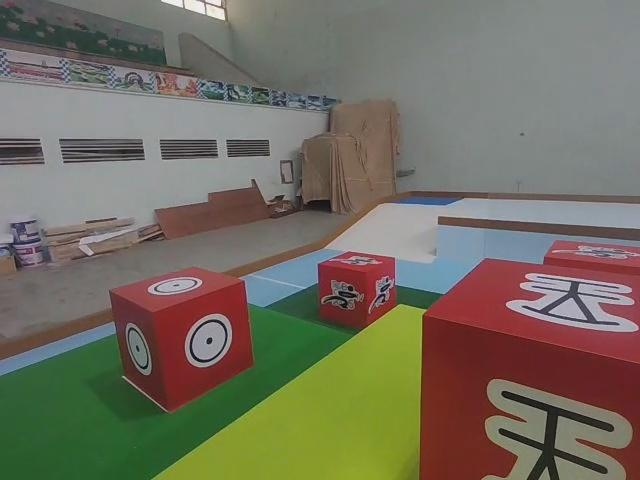R1: (315, 248, 398, 327)
R2 Real: (417, 259, 640, 480), (105, 262, 257, 412)
